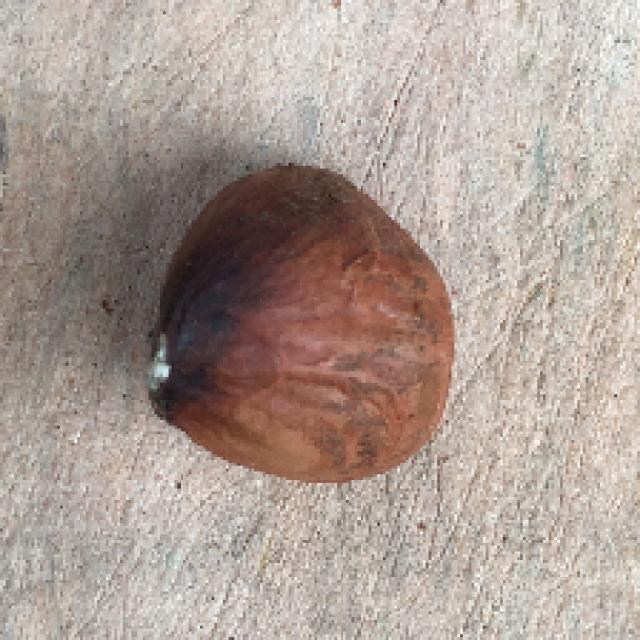hazelnut: (136, 152, 461, 488)
